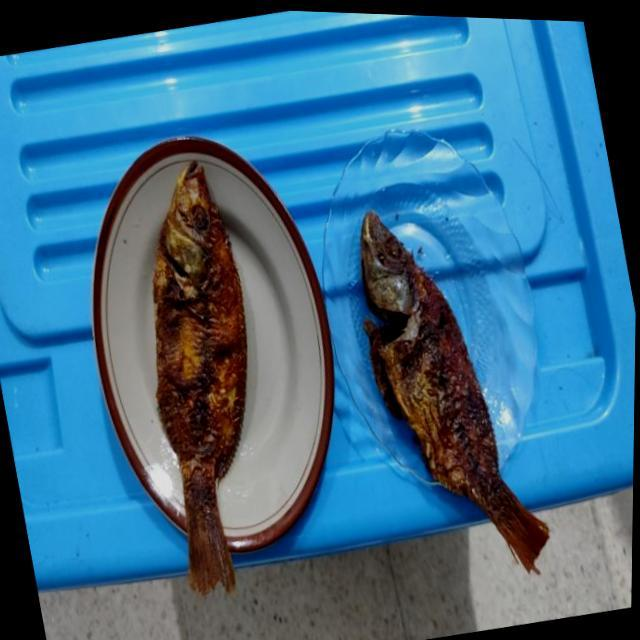ikan_mujair: (360, 211, 550, 574), (154, 161, 248, 594)
